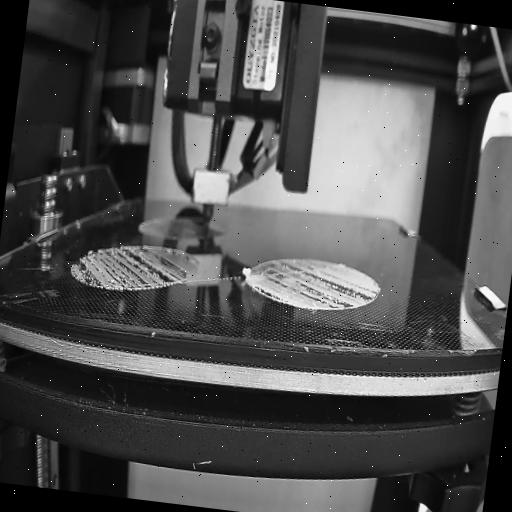under_extrusion: (252, 258, 384, 312), (72, 239, 192, 293)
